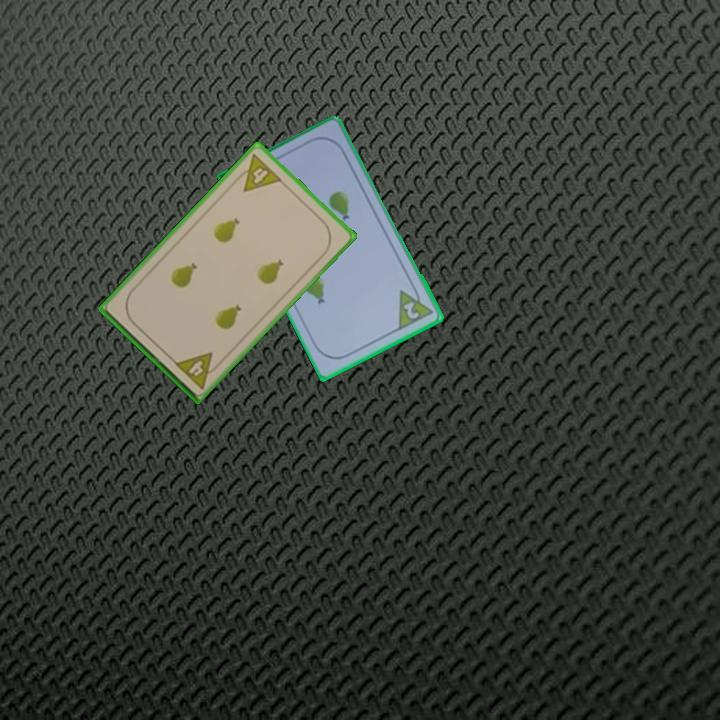2p: (395, 281, 437, 333)
4p: (230, 150, 285, 195), (171, 348, 224, 392)
